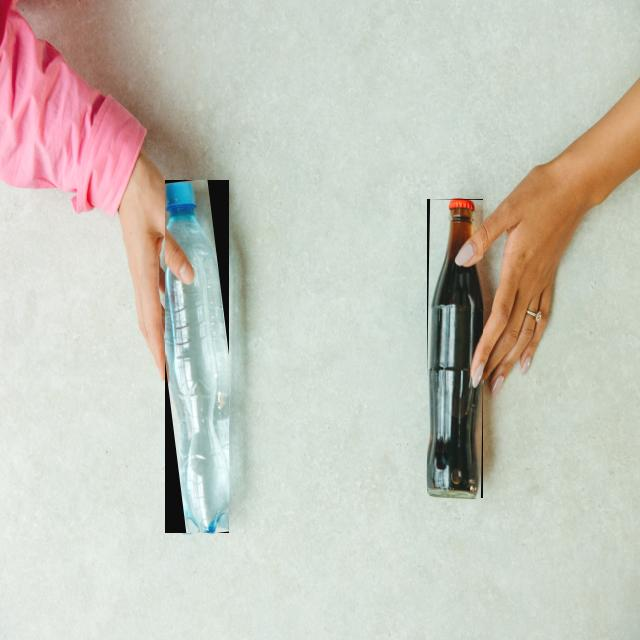Bottle: (166, 181, 228, 533), (428, 199, 483, 498)
